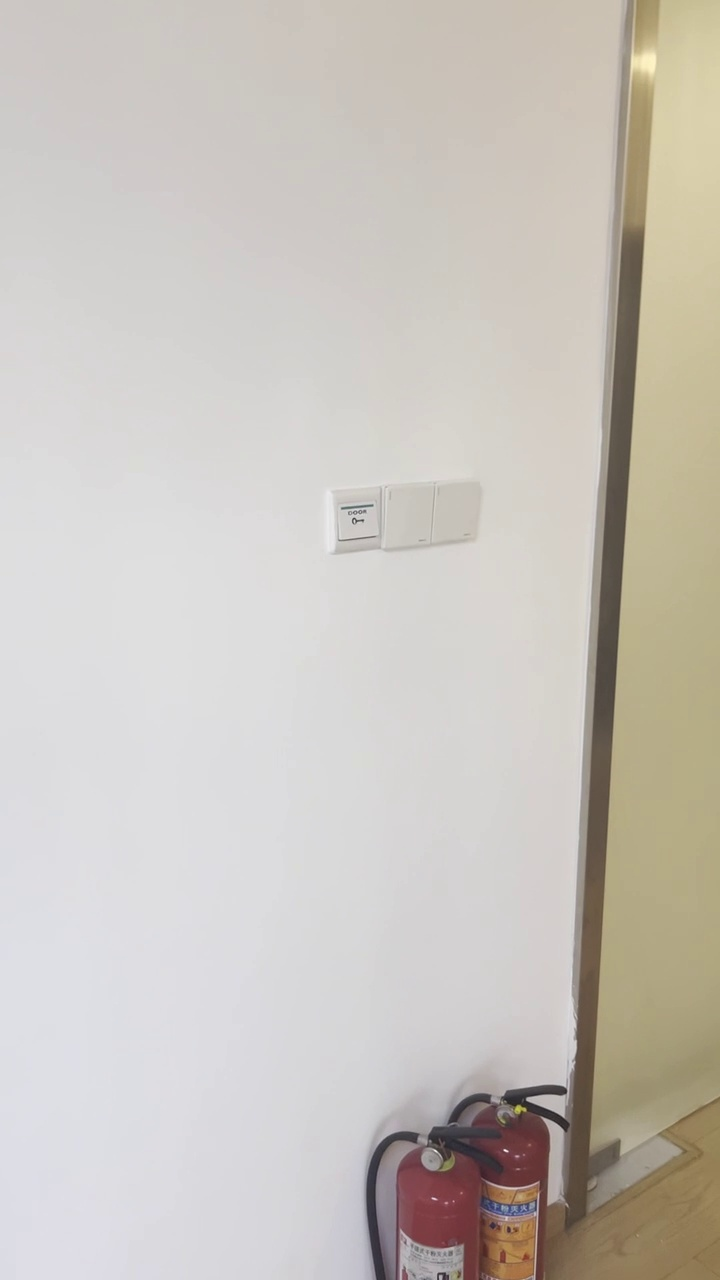button: (381, 481, 434, 550), (432, 479, 480, 543)
